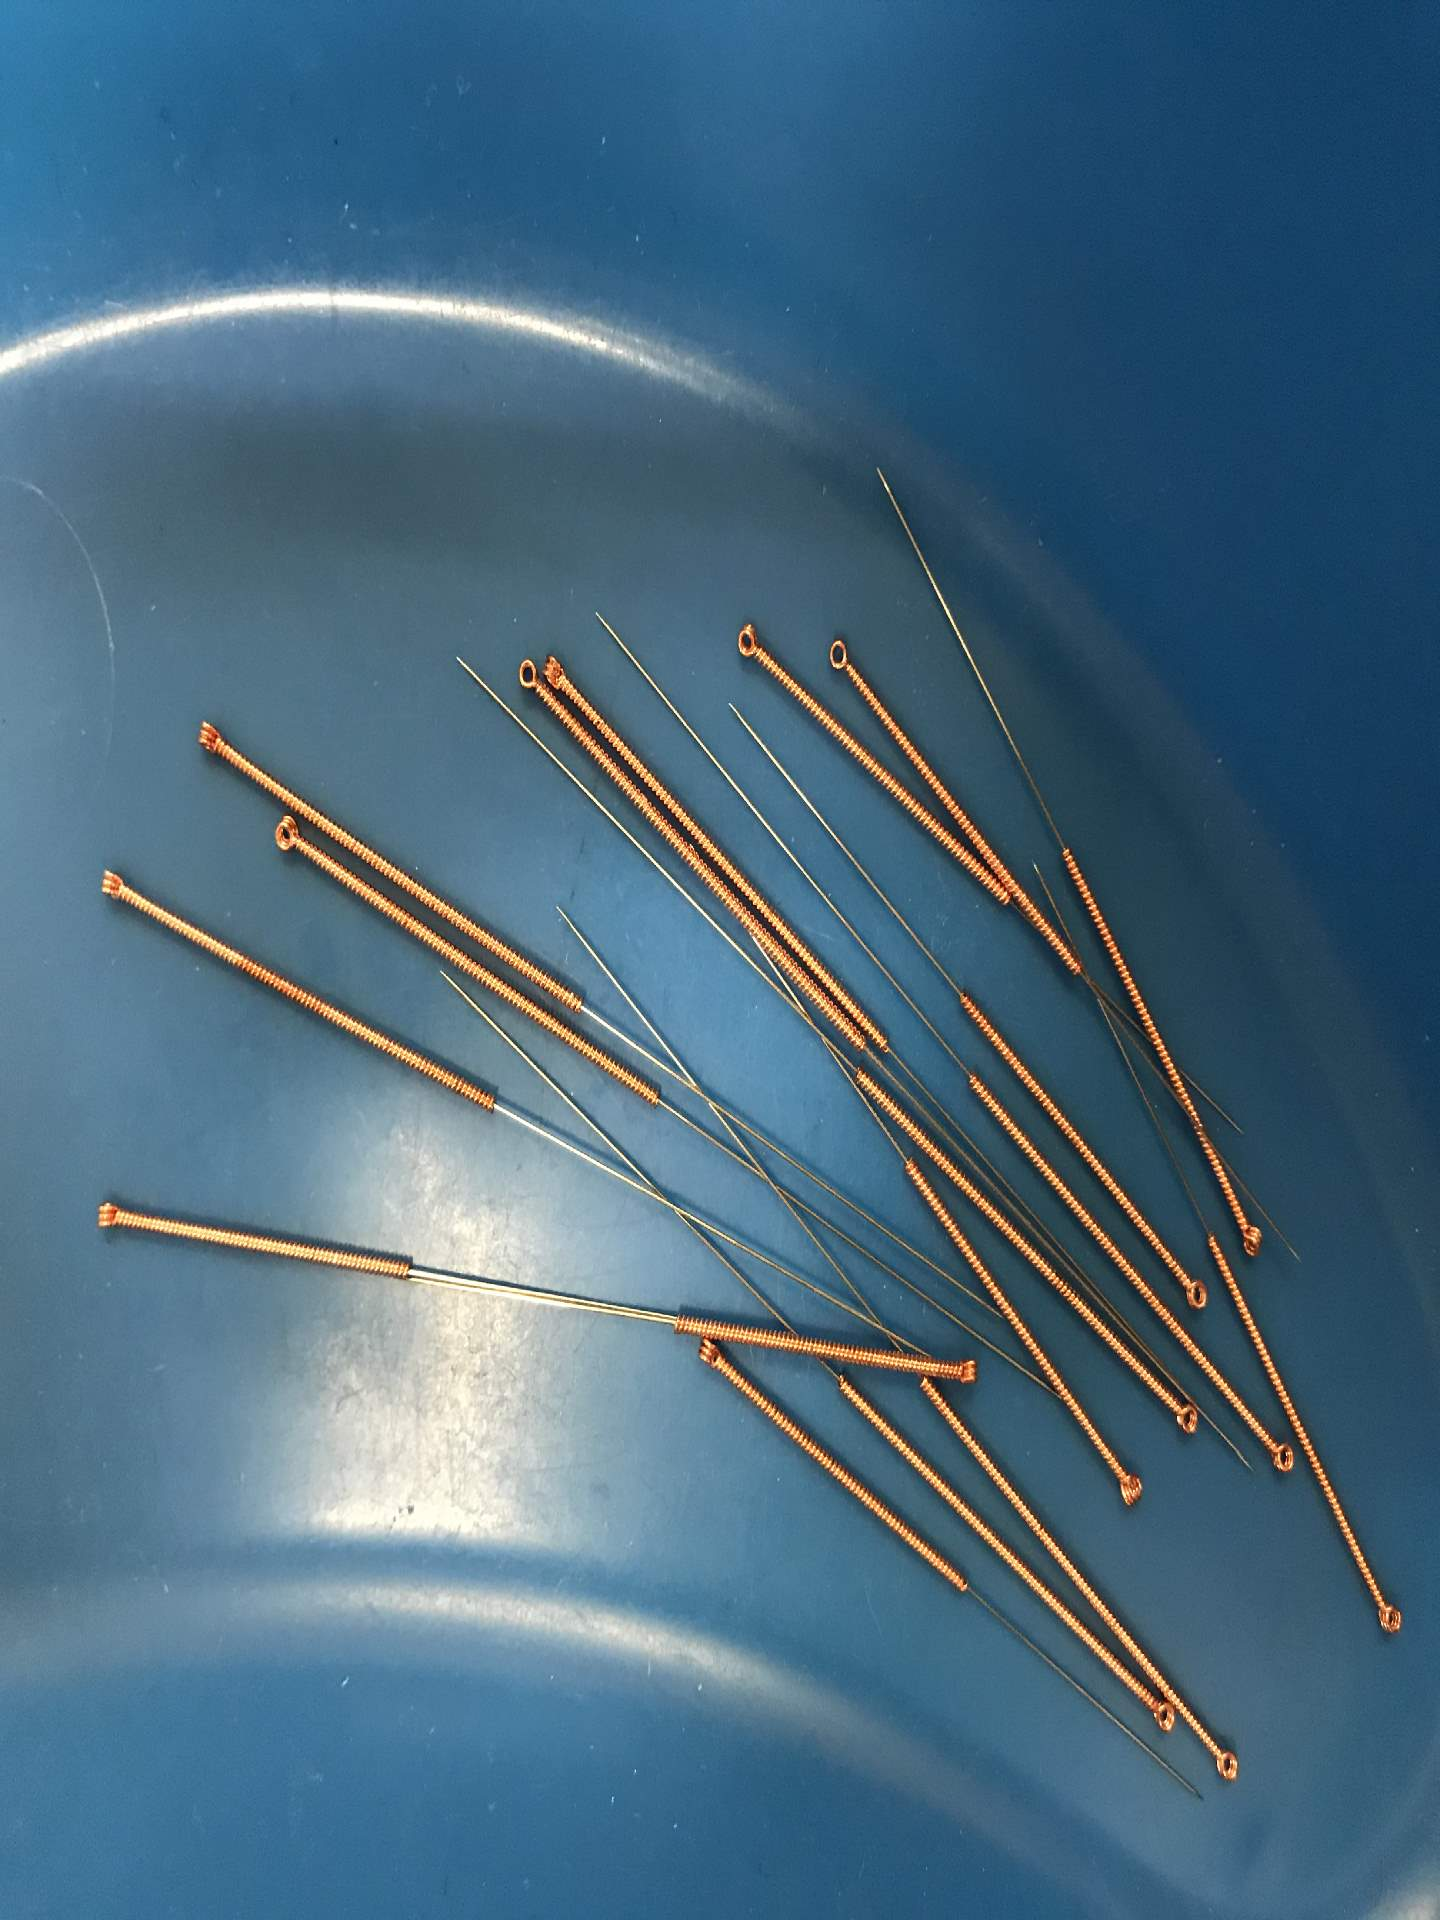needle: (812, 627, 864, 689), (80, 1191, 133, 1246), (185, 711, 237, 765), (88, 859, 136, 918), (1364, 1590, 1411, 1649), (722, 615, 771, 670), (1203, 1734, 1249, 1791), (1227, 1209, 1274, 1267), (1106, 1457, 1151, 1513), (1162, 1389, 1206, 1445), (260, 810, 306, 862), (1258, 1432, 1302, 1485), (1174, 1268, 1216, 1320), (687, 1330, 728, 1380), (507, 650, 543, 705), (942, 1350, 985, 1394), (1141, 1696, 1178, 1739), (540, 652, 573, 692)
